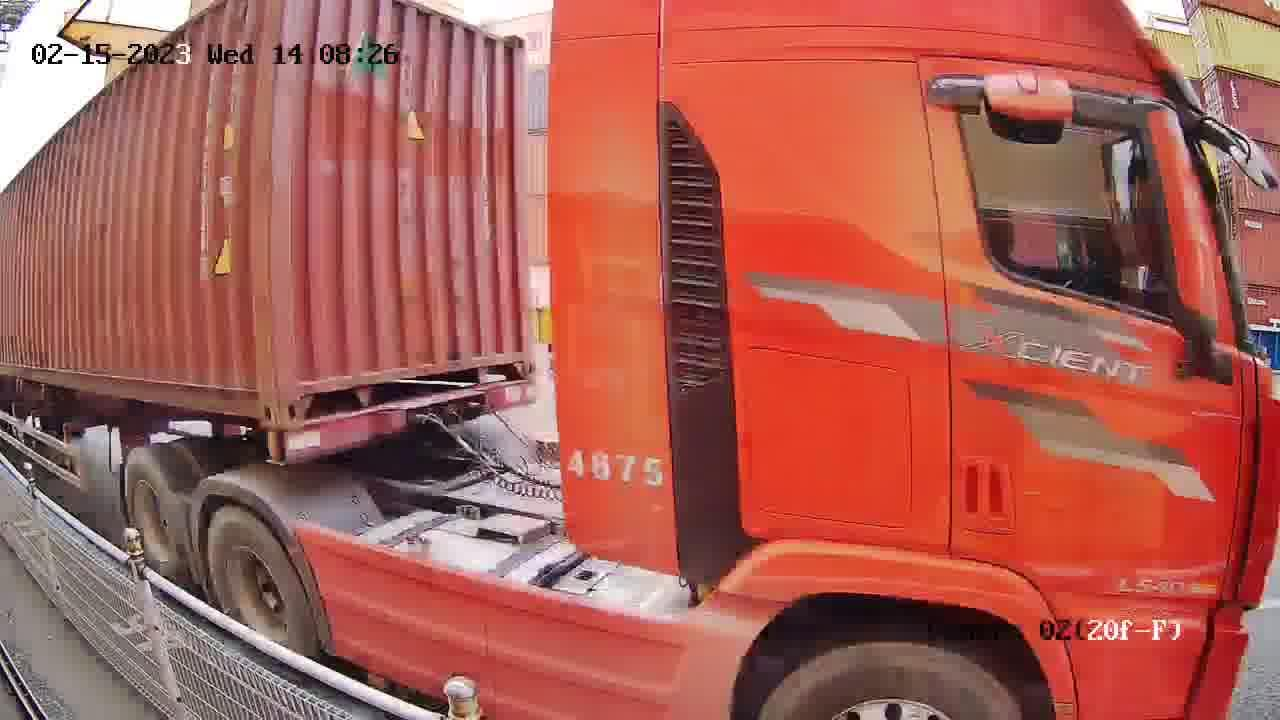Chassis: (284, 377, 537, 464)
Cone: (253, 430, 291, 462)
Hole_L: (279, 360, 333, 434)
Hole_R: (227, 368, 281, 431), (489, 325, 539, 380)
Tire: (764, 640, 1026, 719), (210, 512, 314, 655), (126, 449, 180, 565)
